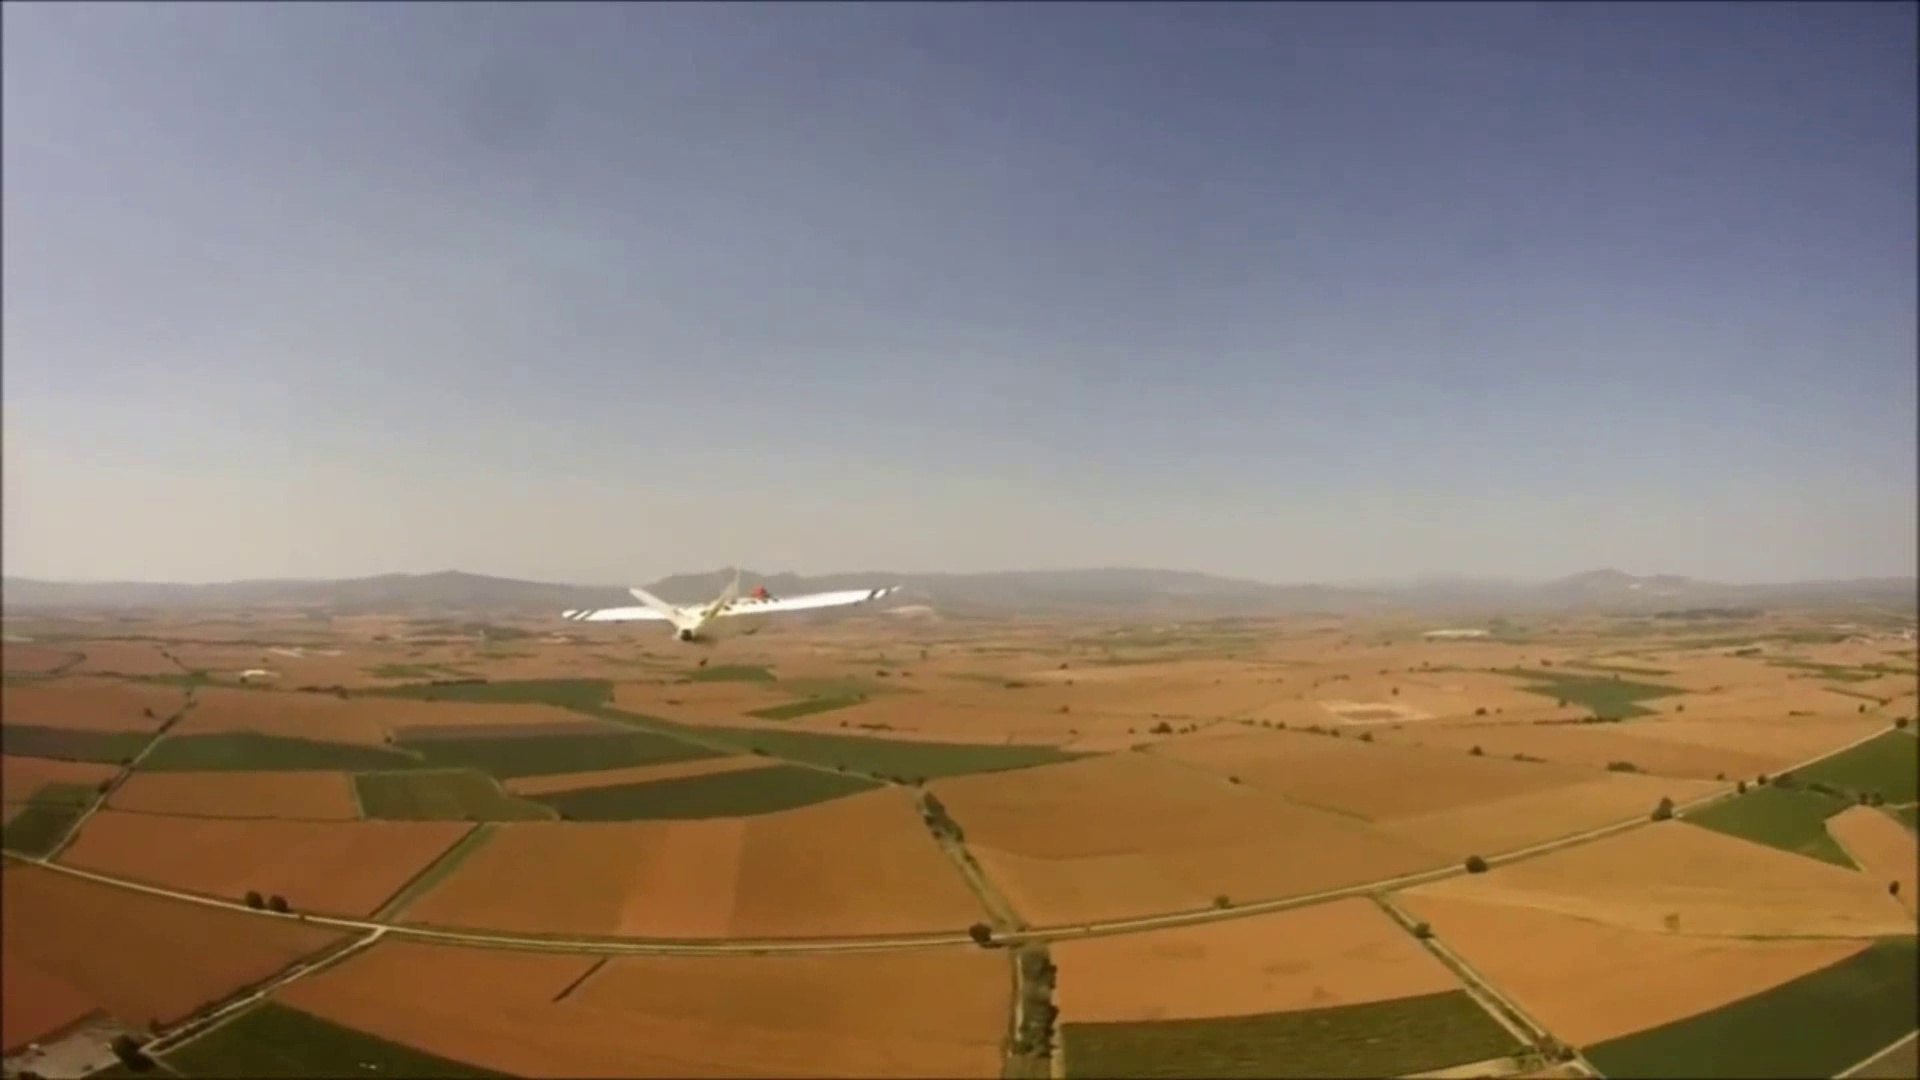airplane: (11, 738, 1664, 1067), (559, 571, 894, 642)
